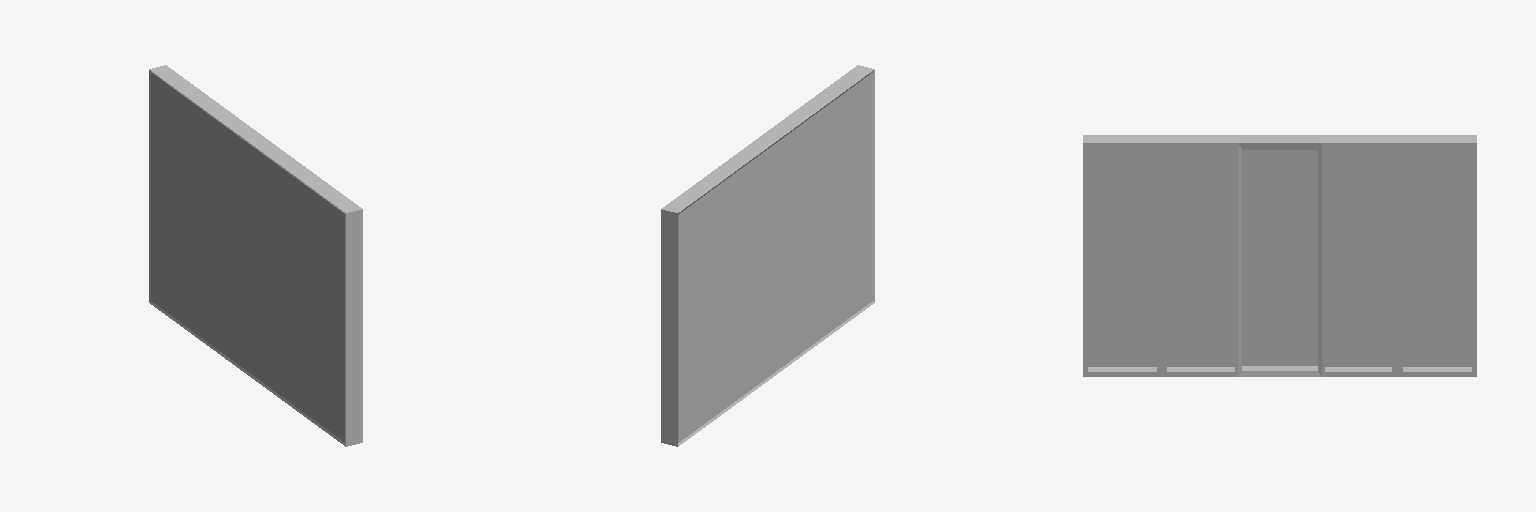
Rendered from SolidWallL.obj.
3 views of the same model, side by side, from view 1: azimuth 30°, elevation 25°; view 2: azimuth 150°, elevation 25°; view 3: azimuth 270°, elevation 25° (orthographic).
Parts seen in each view (by area): view 1: SolidWallL; view 2: SolidWallL; view 3: SolidWallL.
Part boxes in pixels (x1,y1,x2,y2): SolidWallL: (149,65,362,446); SolidWallL: (661,65,874,446); SolidWallL: (1083,135,1476,376).
Bounding box in the file's own units: 0.2348 × 3.06 × 4.68.